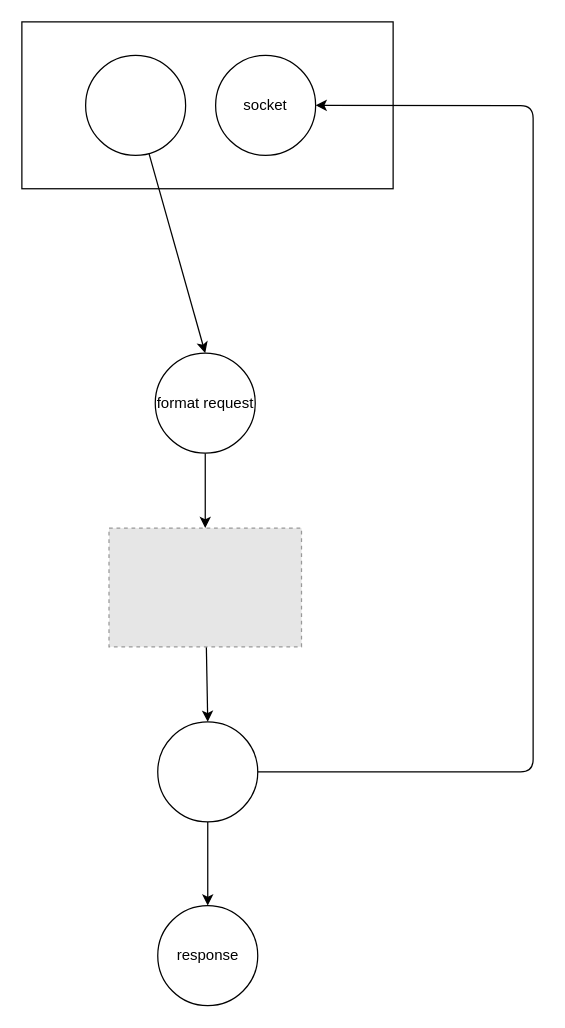
The diagram is 565 pixels wide and 1028 high, and some of its shapes have lost their labels. Grey dashed boxes stand in for pictures. The centre of each missing label's shape, as x and y in pixels:
"raw user input" goes at point 135,104.
"send" goes at point 207,771.
